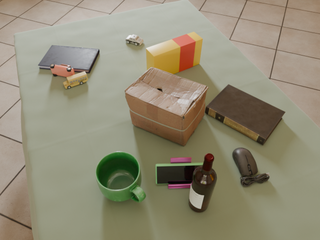book: (205, 84, 285, 145), (38, 45, 99, 73)
bottle: (189, 153, 217, 212)
box: (125, 67, 208, 146), (146, 32, 203, 74)
cup: (95, 152, 146, 202)
mouse: (233, 148, 270, 186)
phone: (156, 163, 203, 184)
toy_car: (63, 71, 88, 88), (50, 64, 75, 77), (125, 35, 144, 45)
